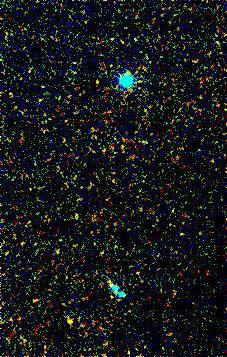star: (55, 308, 85, 338)
